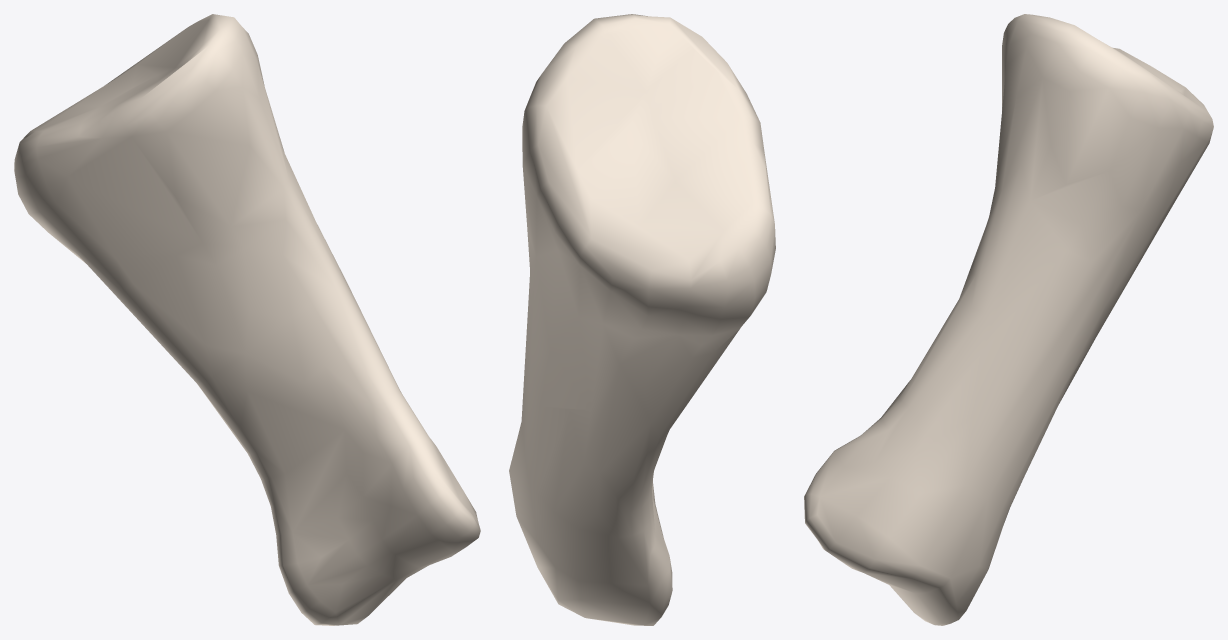
File: left_digit_1_proximal.glb
The picture shows the model from 3 angles, left to right: view 1: azimuth 30°, elevation 25°; view 2: azimuth 150°, elevation 25°; view 3: azimuth 270°, elevation 25°; orthographic projection. The views are drawn at different scales.
Visible parts, largest first — view 1: Proximal phalanx of 1st finger.r; view 2: Proximal phalanx of 1st finger.r; view 3: Proximal phalanx of 1st finger.r.
Boxes of the visible parts, x1,y1,x2,y2 form: Proximal phalanx of 1st finger.r: [14, 14, 480, 625]; Proximal phalanx of 1st finger.r: [509, 14, 775, 625]; Proximal phalanx of 1st finger.r: [804, 14, 1213, 625].
Bounding box in the file's own units: 0.0191 × 0.032 × 0.0211.
